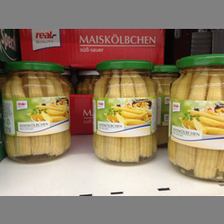corn: (169, 54, 224, 180), (92, 58, 155, 165), (3, 60, 71, 159)
